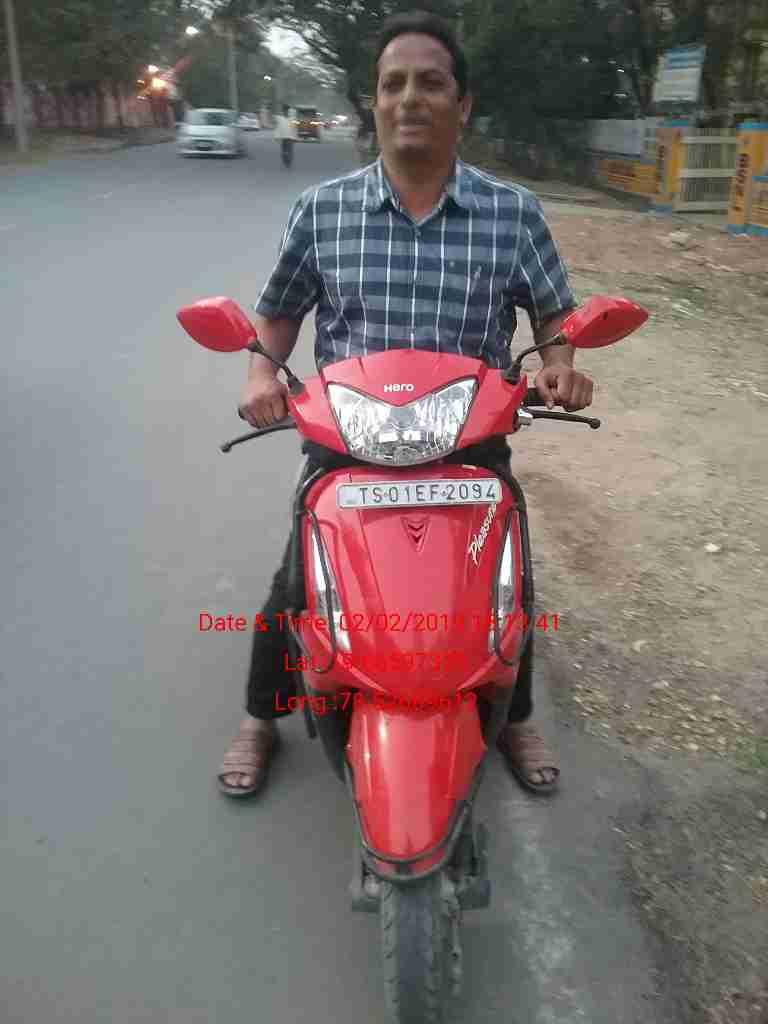plate: (332, 474, 519, 513)
